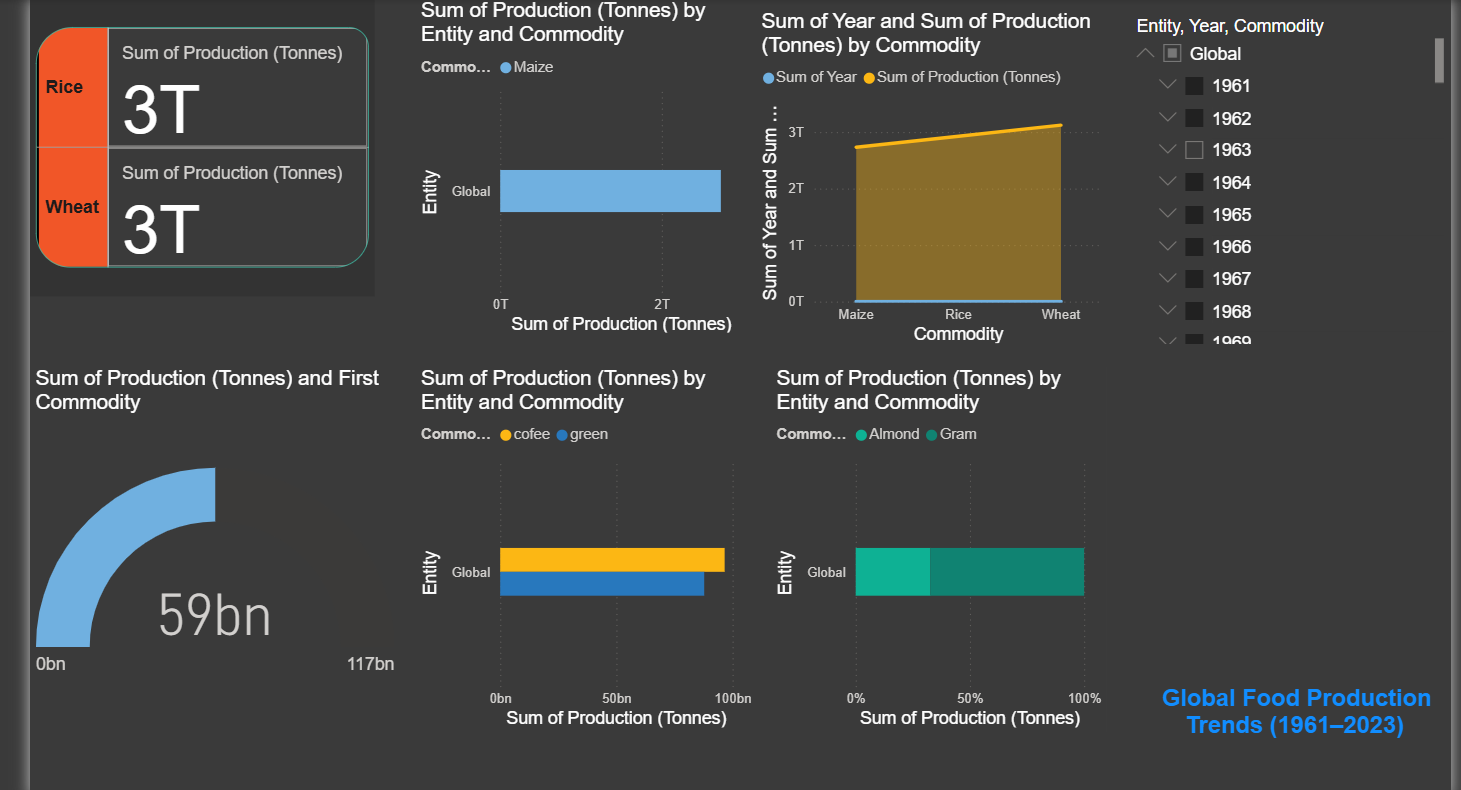

The page's visual inventory and layout, read from the dashboard file:
{"tool":"powerbi","page":{"name":"Page 1","canvas":[1280,720],"ordinal":0},"visuals":[{"type":"cardVisual","fields":{"Data":["Sum(Sheet1.Production (Tonnes))"],"Rows":["Sheet1.Commodity"]},"box":[0,0,310.4,268],"z":0},{"type":"gauge","fields":{"Y":["Sum(Sheet1.Production (Tonnes))"]},"box":[0,331.6,333.1,330.1],"z":1000},{"type":"clusteredBarChart","fields":{"Category":["Sheet1.Entity"],"Y":["Sum(Sheet1.Production (Tonnes))"],"Series":["Sheet1.Commodity"]},"box":[346.8,0,307.4,305.9],"z":2000},{"type":"clusteredBarChart","fields":{"Category":["Sheet1.Entity"],"Y":["Sum(Sheet1.Production (Tonnes))"],"Series":["Sheet1.Commodity"]},"box":[346.8,331.6,307.4,330.1],"z":3000},{"type":"areaChart","fields":{"Y":["Sum(Sheet1.Year)","Sum(Sheet1.Production (Tonnes))"],"Category":["Sheet1.Commodity"]},"box":[654.1,9.1,316.5,305.9],"z":4000},{"type":"hundredPercentStackedBarChart","fields":{"Category":["Sheet1.Entity"],"Y":["Sum(Sheet1.Production (Tonnes))"],"Series":["Sheet1.Commodity"]},"box":[667.8,331.6,302.8,330.1],"z":5000},{"type":"slicer","fields":{"Values":["Sheet1.Entity","Sheet1.Year","Sheet1.Commodity"]},"box":[984.2,9.1,295.3,305.9],"z":6000},{"type":"textbox","box":[999.1,612.1,281.3,108.4],"z":7000}]}

Visuals, with their boxes on the page's 1280x720 design canvas (x1, y1, x2, y2). These are canvas units, not pixel positions in the 1461x790 screenshot, which may show the page scaled, cropped or inside an application window:
cardVisual - Sum(Sheet1.Production (Tonnes)) x Sheet1.Commodity: {"left": 0, "top": 0, "right": 310, "bottom": 268}
gauge - Sum(Sheet1.Production (Tonnes)): {"left": 0, "top": 332, "right": 333, "bottom": 662}
clusteredBarChart - Sheet1.Entity x Sum(Sheet1.Production (Tonnes)): {"left": 347, "top": 0, "right": 654, "bottom": 306}
clusteredBarChart - Sheet1.Entity x Sum(Sheet1.Production (Tonnes)): {"left": 347, "top": 332, "right": 654, "bottom": 662}
areaChart - Sum(Sheet1.Year) x Sum(Sheet1.Production (Tonnes)): {"left": 654, "top": 9, "right": 971, "bottom": 315}
hundredPercentStackedBarChart - Sheet1.Entity x Sum(Sheet1.Production (Tonnes)): {"left": 668, "top": 332, "right": 971, "bottom": 662}
slicer - Sheet1.Entity x Sheet1.Year: {"left": 984, "top": 9, "right": 1280, "bottom": 315}
textbox: {"left": 999, "top": 612, "right": 1280, "bottom": 720}
